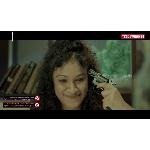Pistol: (84, 64, 118, 110)
